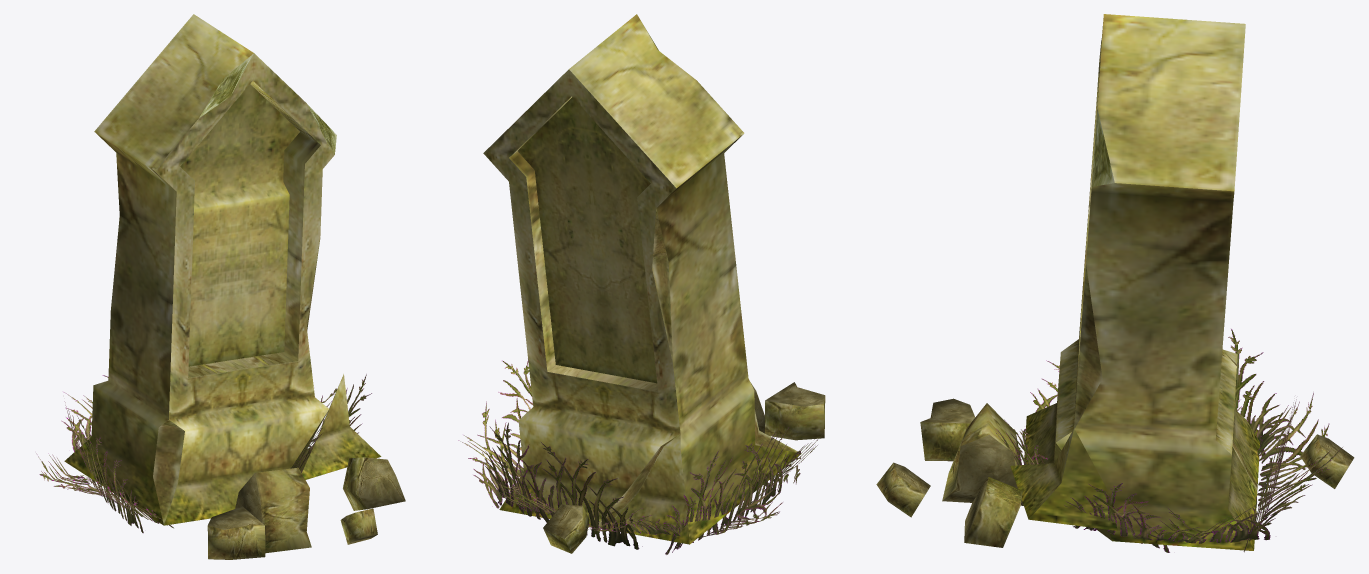
File: a_SWCtomb04_01.glb
3 views of the same model, side by side, from view 1: azimuth 30°, elevation 25°; view 2: azimuth 150°, elevation 25°; view 3: azimuth 270°, elevation 25° (orthographic). The views are drawn at different scales.
Visible parts, largest first — view 1: a_SWCtomb04_01; view 2: a_SWCtomb04_01; view 3: a_SWCtomb04_01.
Part boxes in pixels (x1,y1,x2,y2): a_SWCtomb04_01: [36, 14, 405, 559]; a_SWCtomb04_01: [458, 14, 825, 554]; a_SWCtomb04_01: [876, 14, 1354, 552].
Bounding box in the file's own units: 1.9 × 2.72 × 2.29.
Materials: 3 (3 with a texture image).
